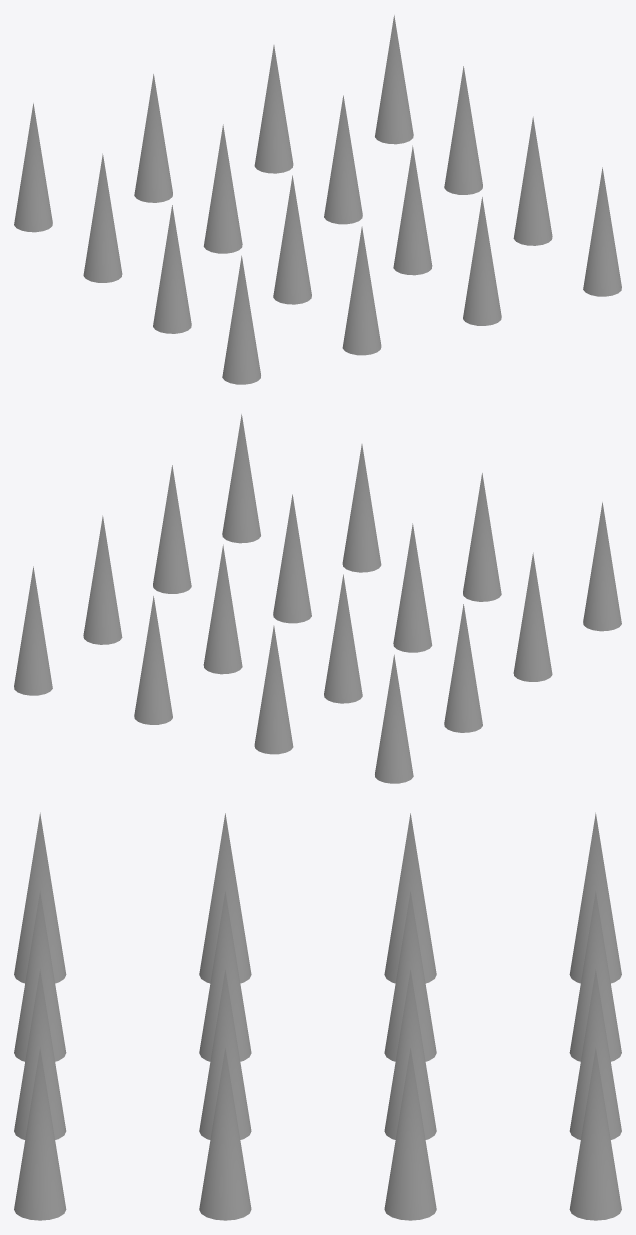
File: Trap.fbx
The picture shows the model from 3 angles, top to bottom: view 1: azimuth 30°, elevation 25°; view 2: azimuth 150°, elevation 25°; view 3: azimuth 270°, elevation 25°; orthographic projection. The views are drawn at different scales.
Parts seen in each view (by area): view 1: Cone.002; view 2: Cone.002; view 3: Cone.002.
Boxes of the visible parts, bbox=[...] form: Cone.002: bbox=[14, 15, 621, 384]; Cone.002: bbox=[14, 414, 621, 783]; Cone.002: bbox=[14, 812, 621, 1220].
Size of the model in its own units: 173 by 51.05 by 173.
1 material, 1 textured.
